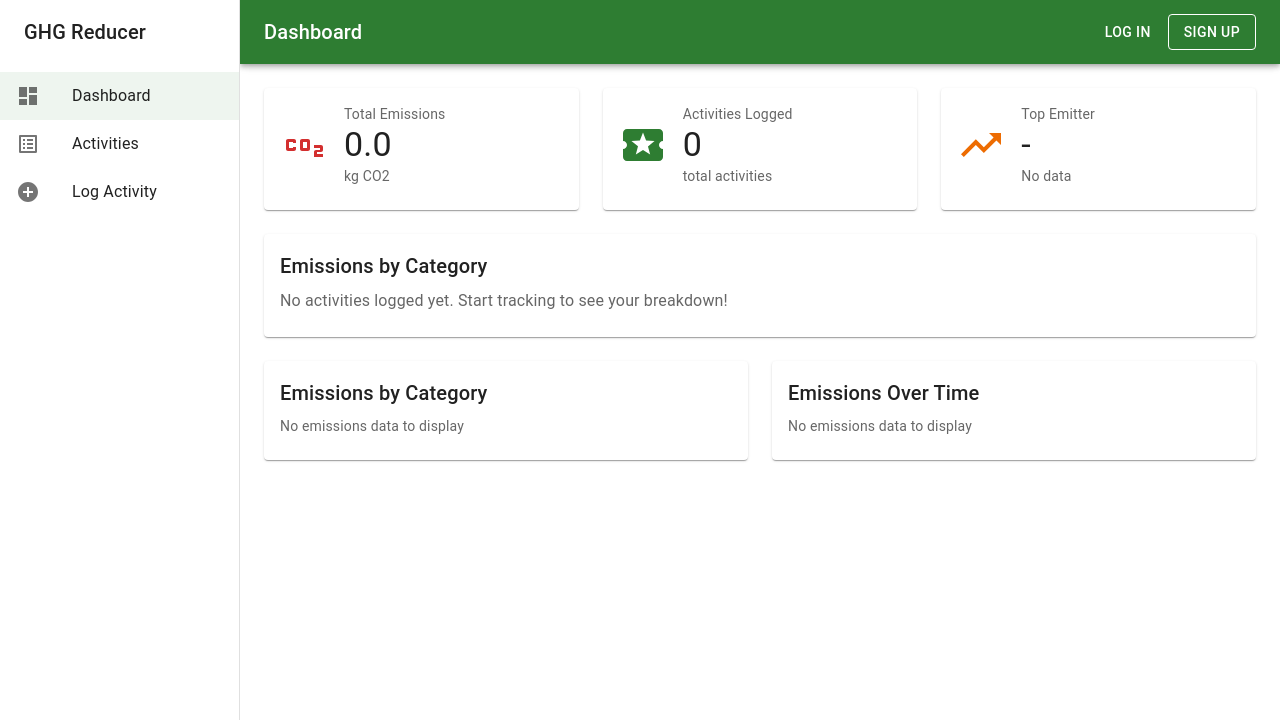
App › navigates to activities view
Expected: the 1st text "Dashboard" is shown, x1=264 y1=20 x2=362 y2=44
Step 1. Click the button "Activities" → (78, 144), box x1=16 y1=132 x2=139 y2=156
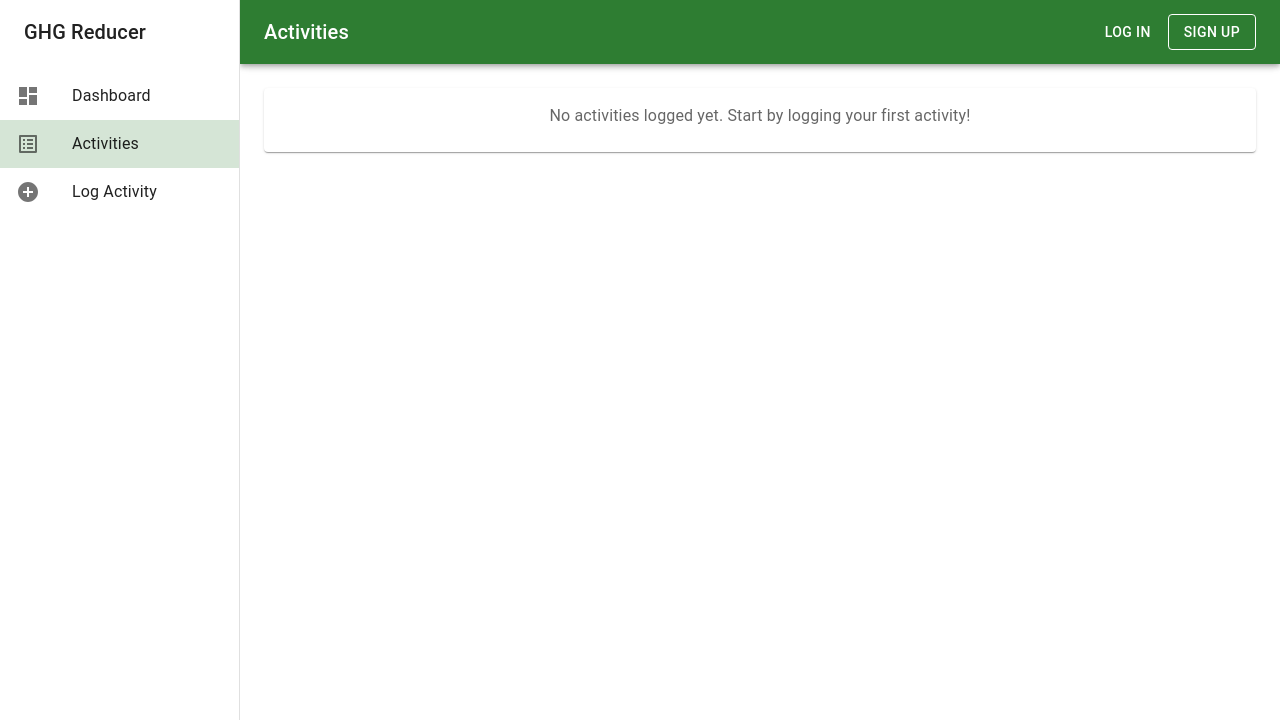
Expected: the text "No activities logged yet" is shown, x1=550 y1=106 x2=970 y2=125
